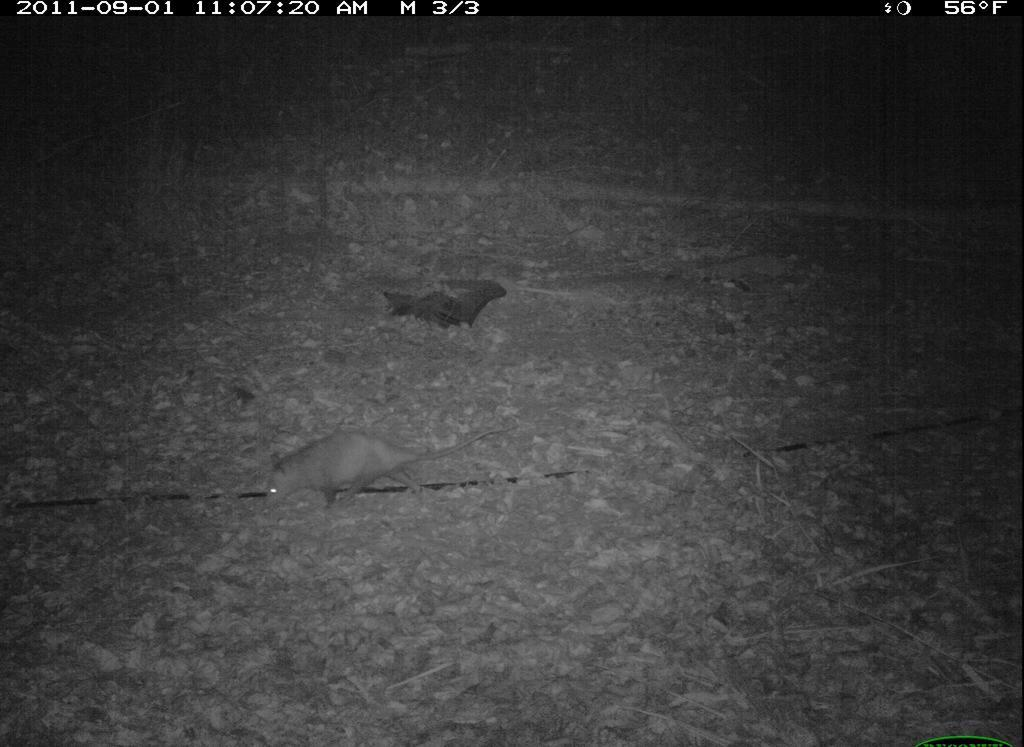opossum: (259, 415, 524, 518)
